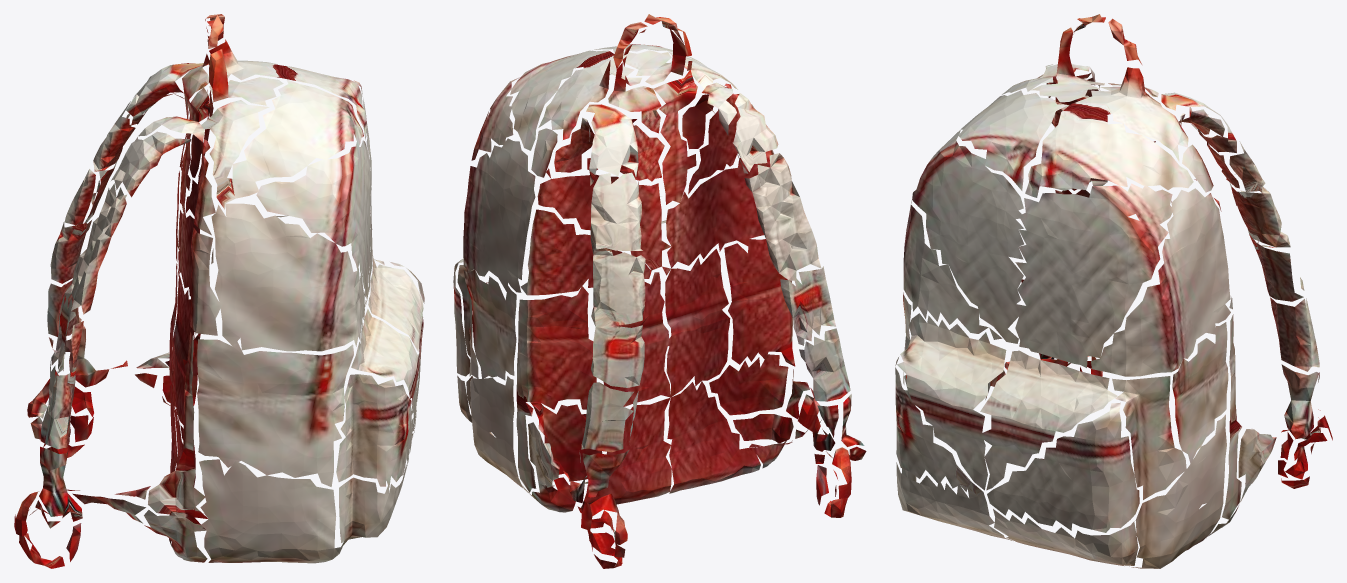
Rendered from pack_white.glb.
3 views of the same model, side by side, from view 1: azimuth 30°, elevation 25°; view 2: azimuth 150°, elevation 25°; view 3: azimuth 270°, elevation 25° (orthographic). The views are drawn at different scales.
Bounding box in the file's own units: 0.6868 × 0.8033 × 0.6347.
1 material, 1 textured.
